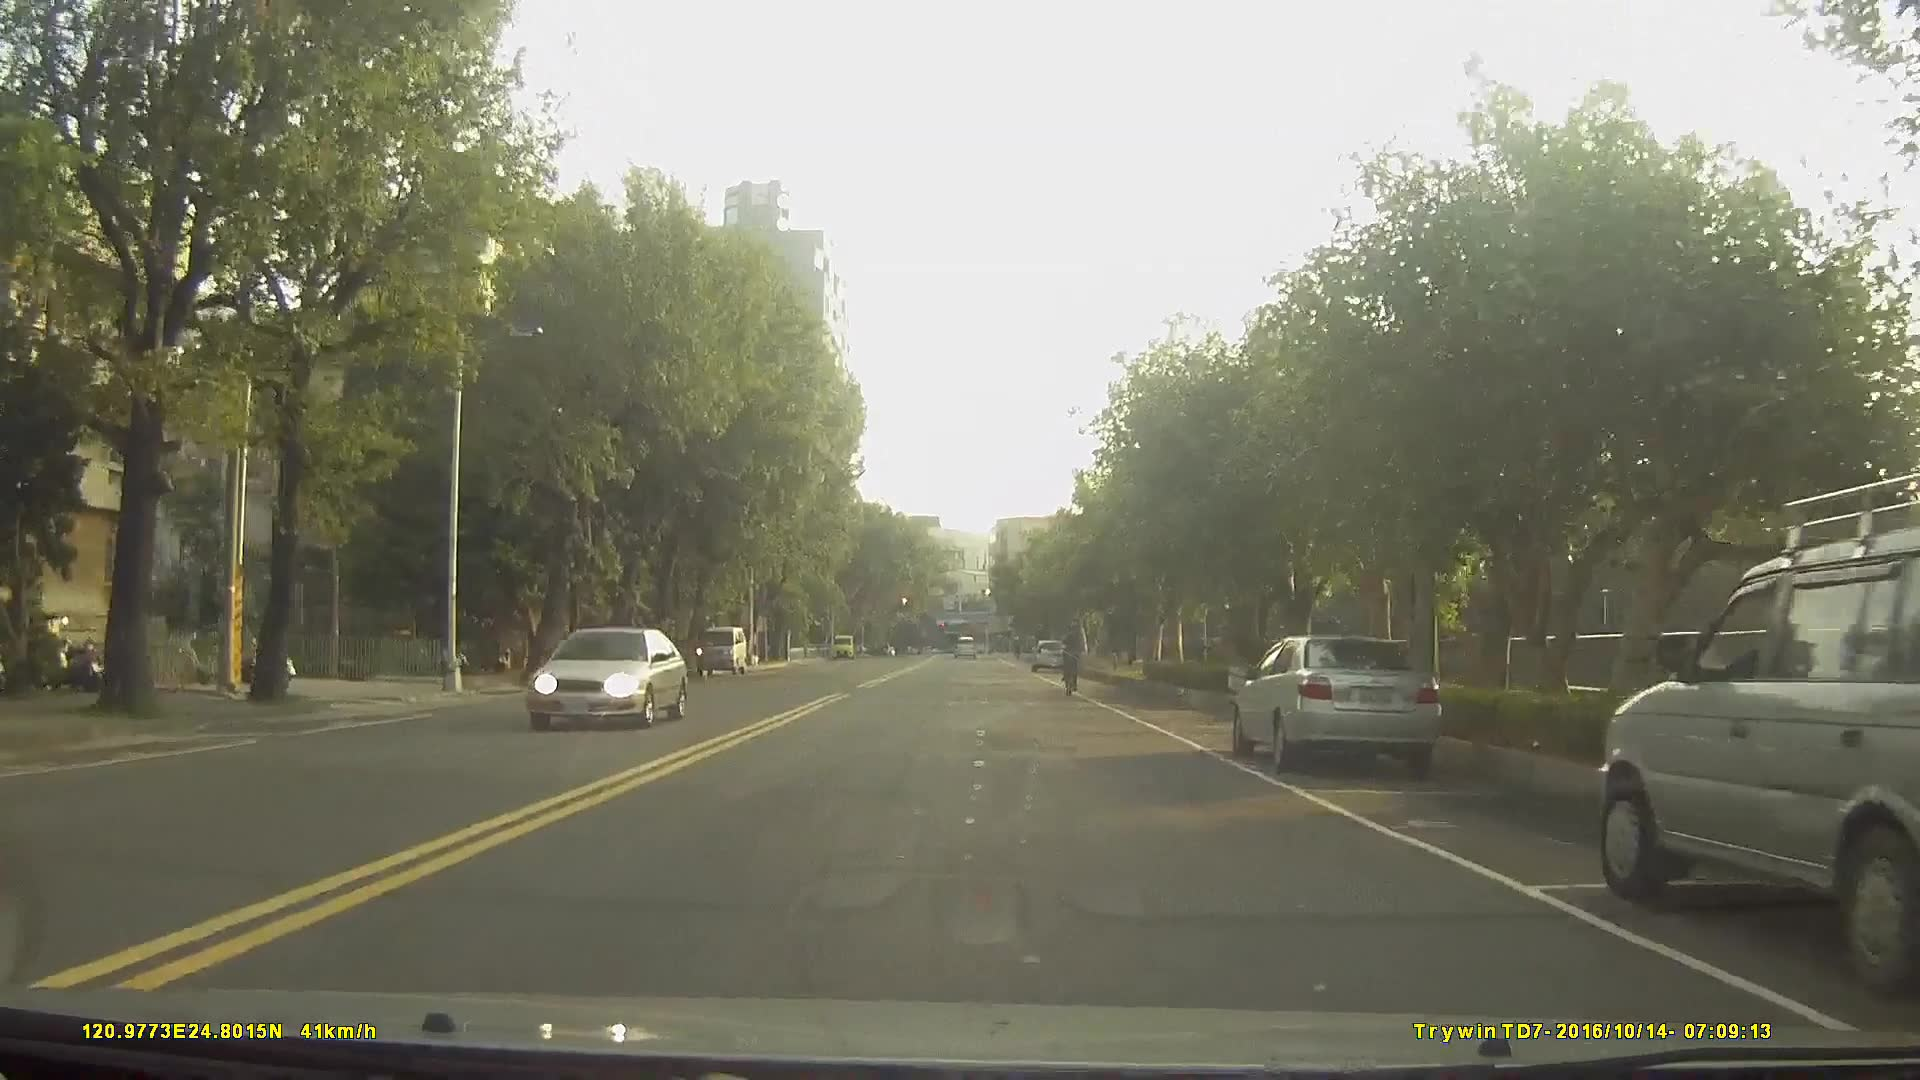rider: (1060, 619, 1087, 702)
vehicle: (1598, 522, 1920, 1002), (1232, 635, 1445, 776), (524, 623, 689, 731), (610, 637, 672, 688), (694, 624, 745, 677), (1029, 637, 1068, 674), (952, 634, 978, 661)
